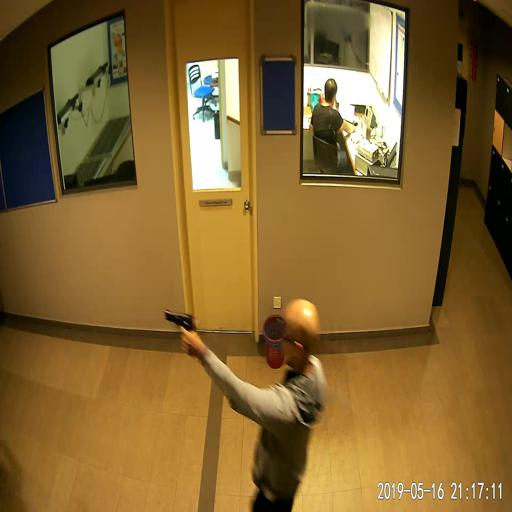pistol: (165, 310, 193, 353)
